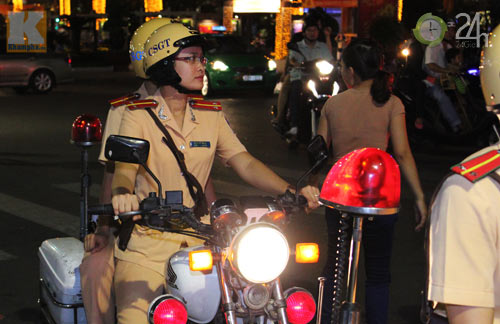police: (76, 16, 316, 320)
